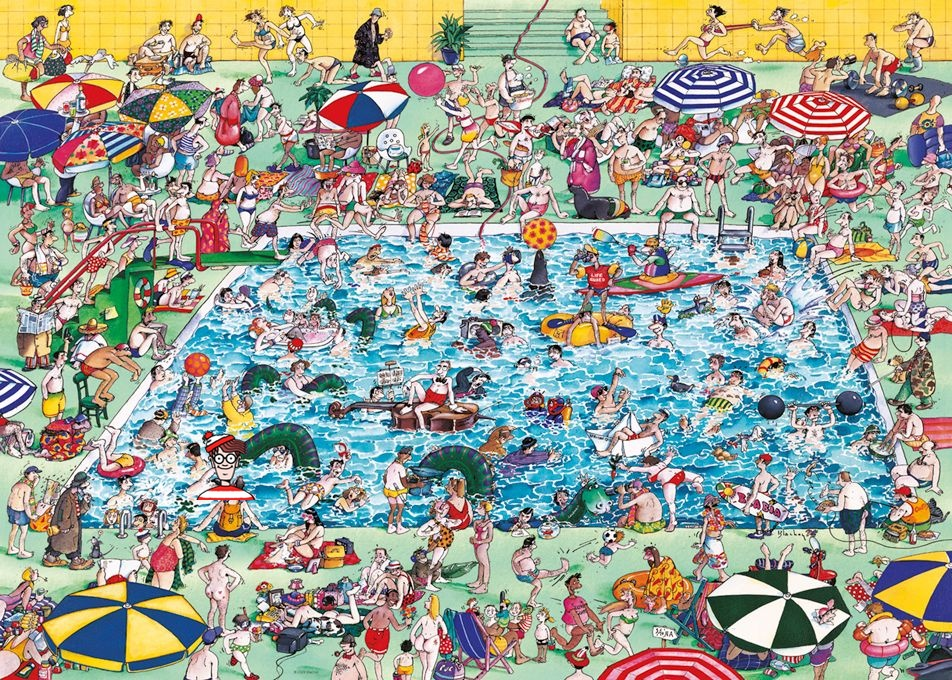waldo: (196, 430, 255, 500)
